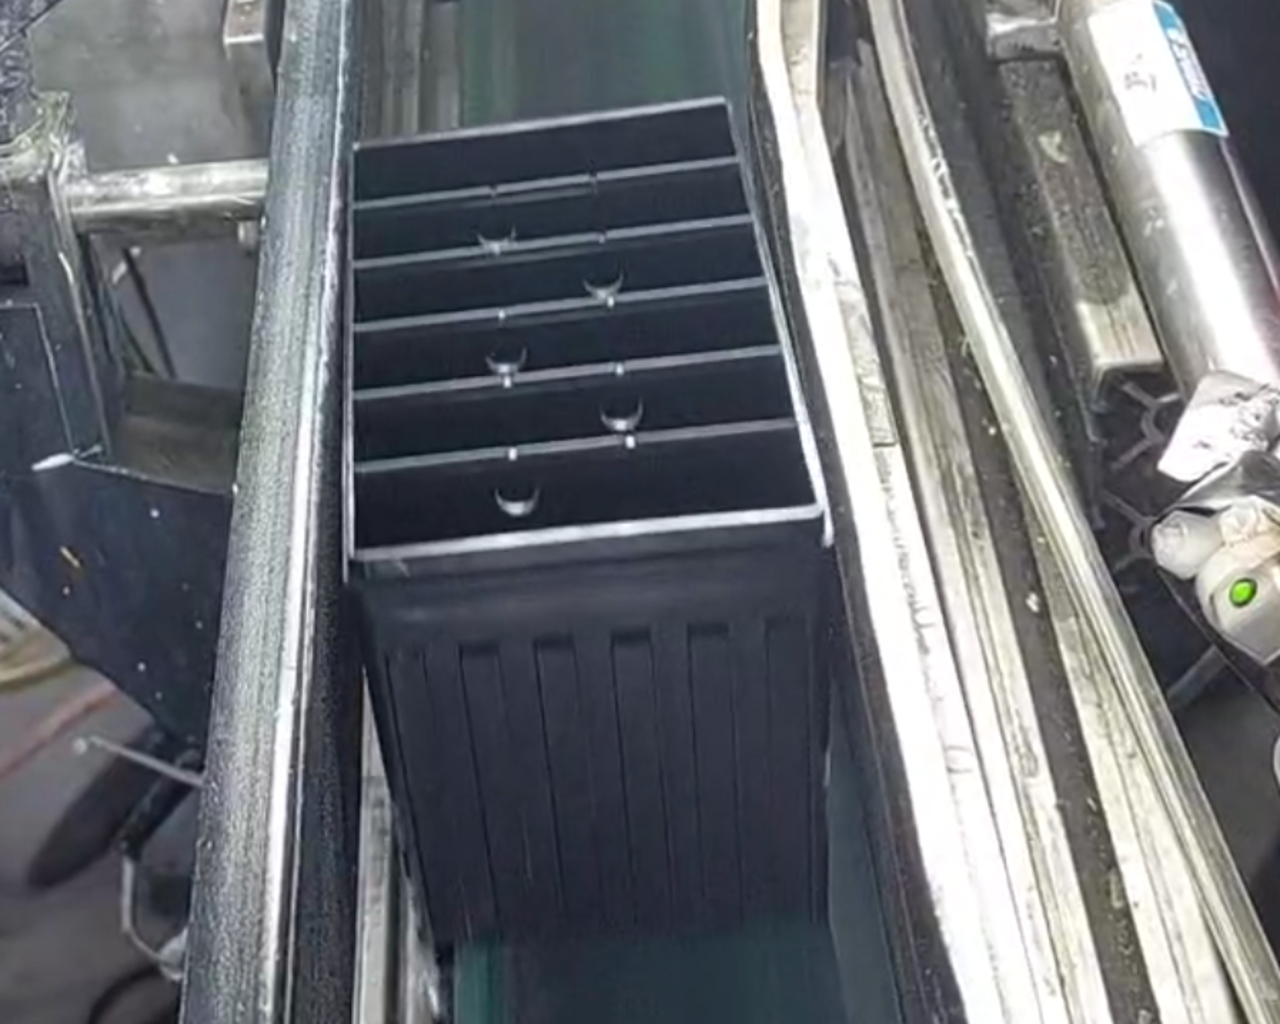box: (325, 88, 848, 596)
round: (486, 468, 550, 520), (586, 386, 652, 436), (572, 253, 631, 300), (478, 333, 535, 380), (466, 209, 523, 250)
